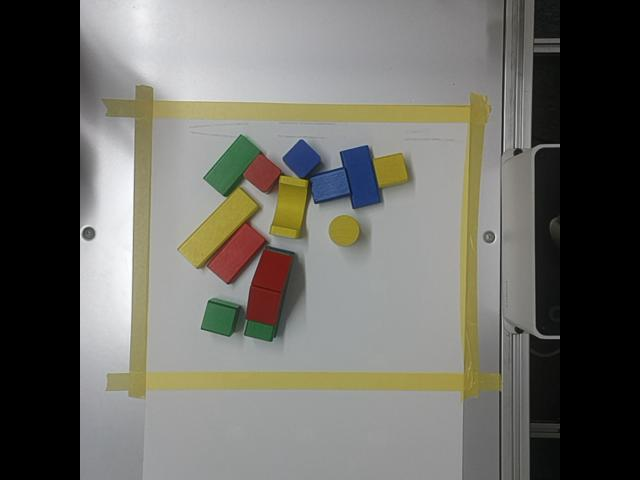blue_cube: (282, 138, 319, 177)
blue_rect: (341, 144, 380, 207)
cylinder: (329, 215, 359, 246)
green_cube: (201, 299, 240, 336)
green_rect: (203, 134, 260, 195)
half_cylinder: (311, 165, 351, 201)
red_cube: (243, 153, 282, 191)
red_rect: (208, 222, 266, 284)
triangle: (251, 249, 290, 290), (247, 285, 281, 325)
yellow_archrect: (270, 174, 309, 238)
yellow_cube: (373, 151, 408, 186)
yellow_longrect: (179, 186, 259, 268)
